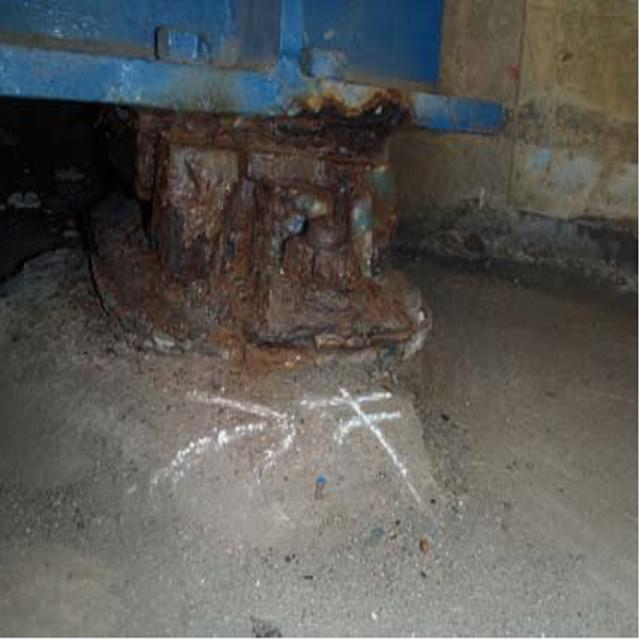corrosion: (103, 76, 428, 360)
